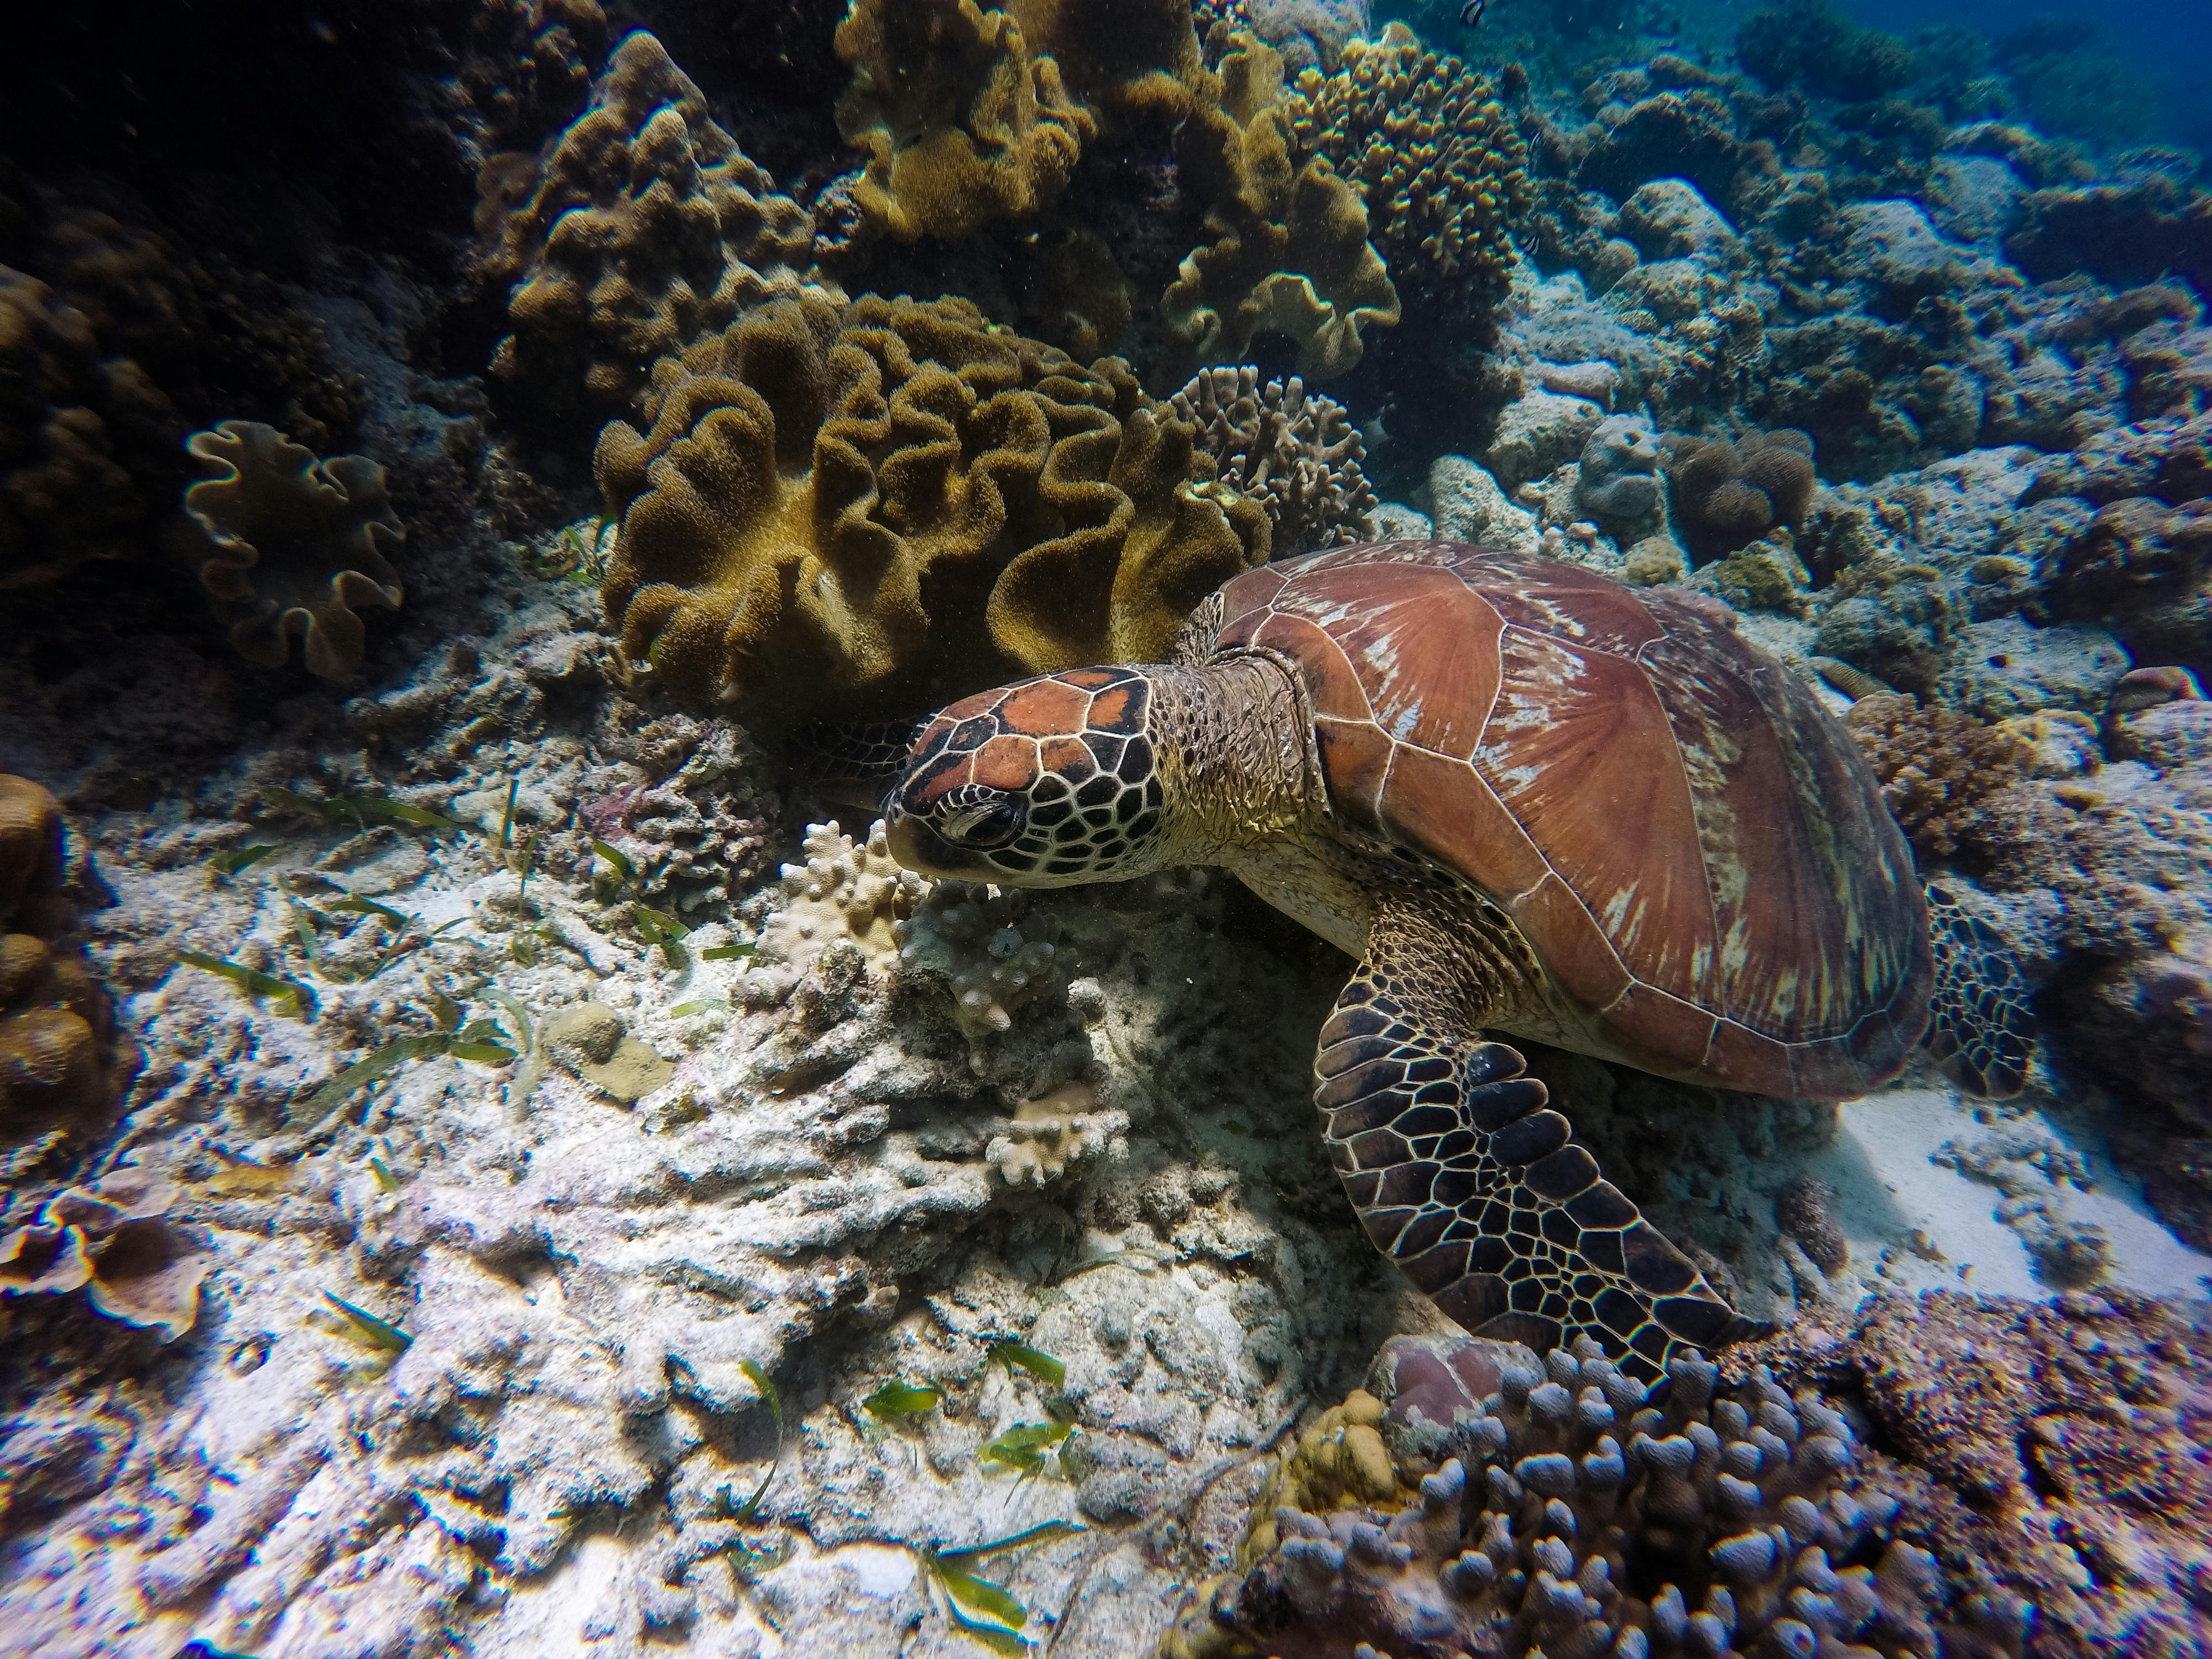turtle: (775, 521, 2040, 1389)
